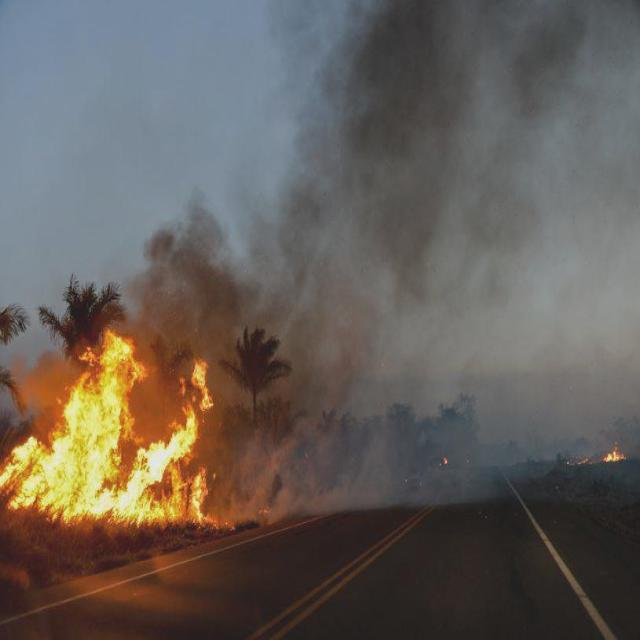Fire: (2, 338, 227, 530), (602, 444, 626, 462)
